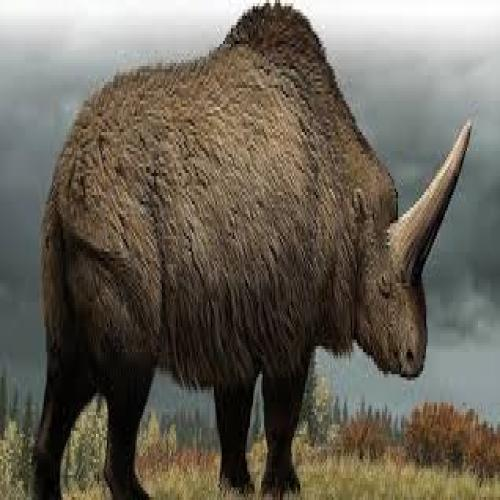rhino-endangered: (44, 15, 464, 477)
